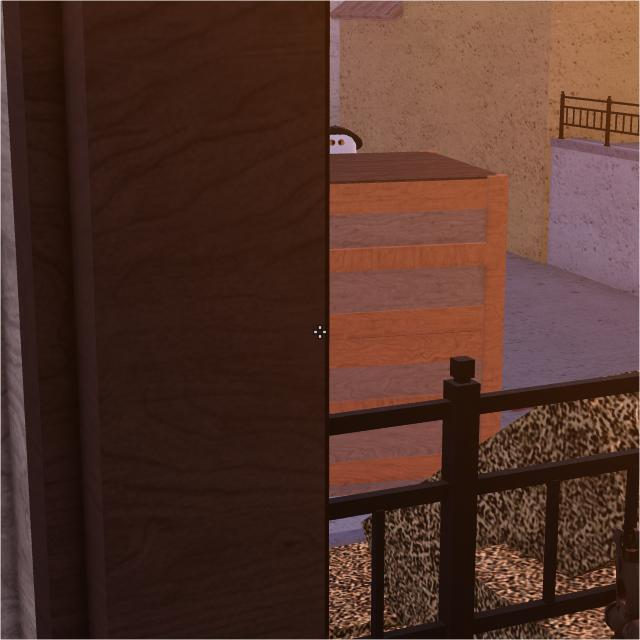Head: (328, 124, 364, 154)
